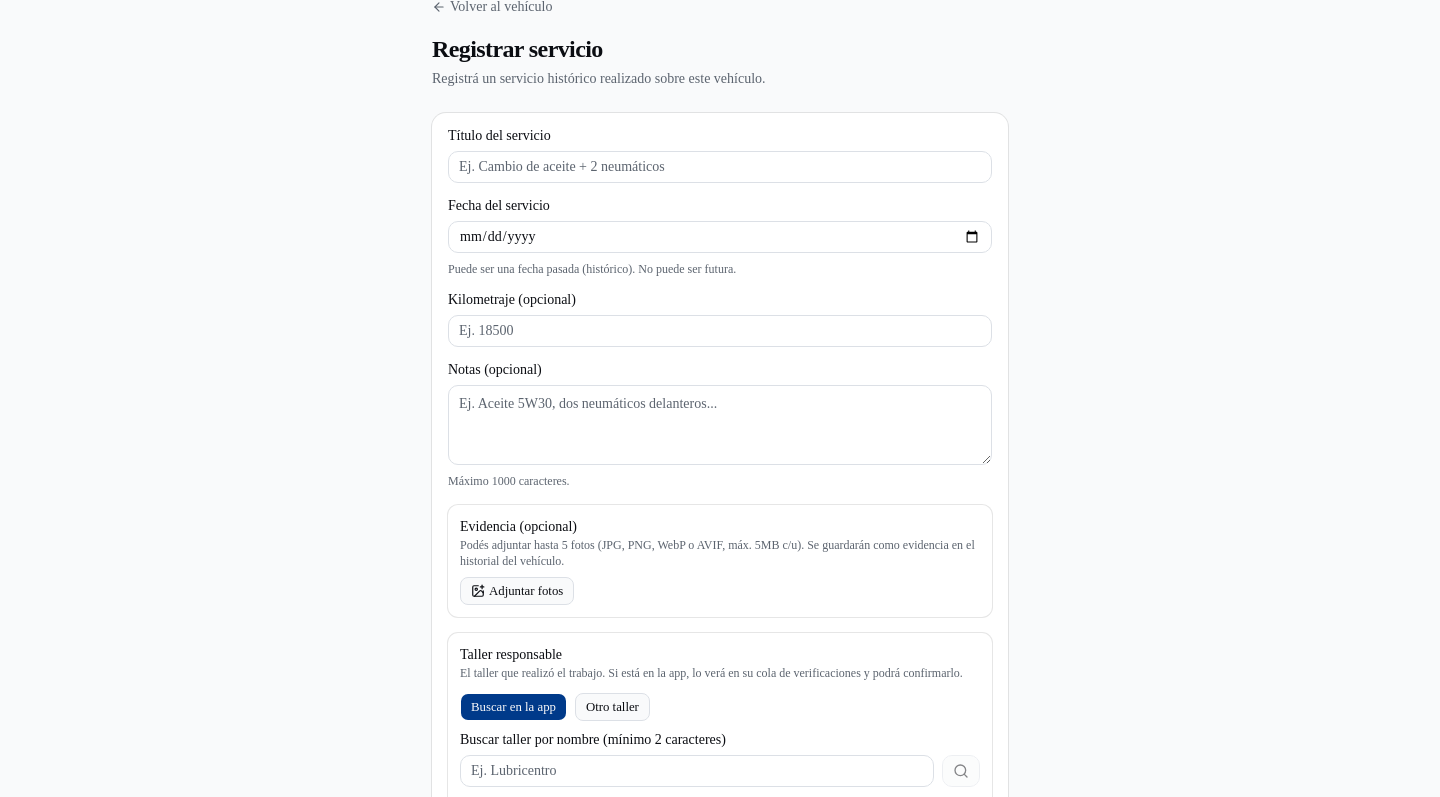
Scenario: Registrar servicio page (iteración 2-2) › happy path con taller de la app: envía workshopId (y nunca workshopName)
In the field labelled "Título del servicio": (720, 167) [448,151,992,183], type "Cambio de aceite + 2 neumáticos"
In the date field labelled "Fecha del servicio": (720, 237) [448,221,992,253], type "2026-06-15"
In the field labelled "Kilometraje (opcional)": (720, 331) [448,315,992,347], type "18500"
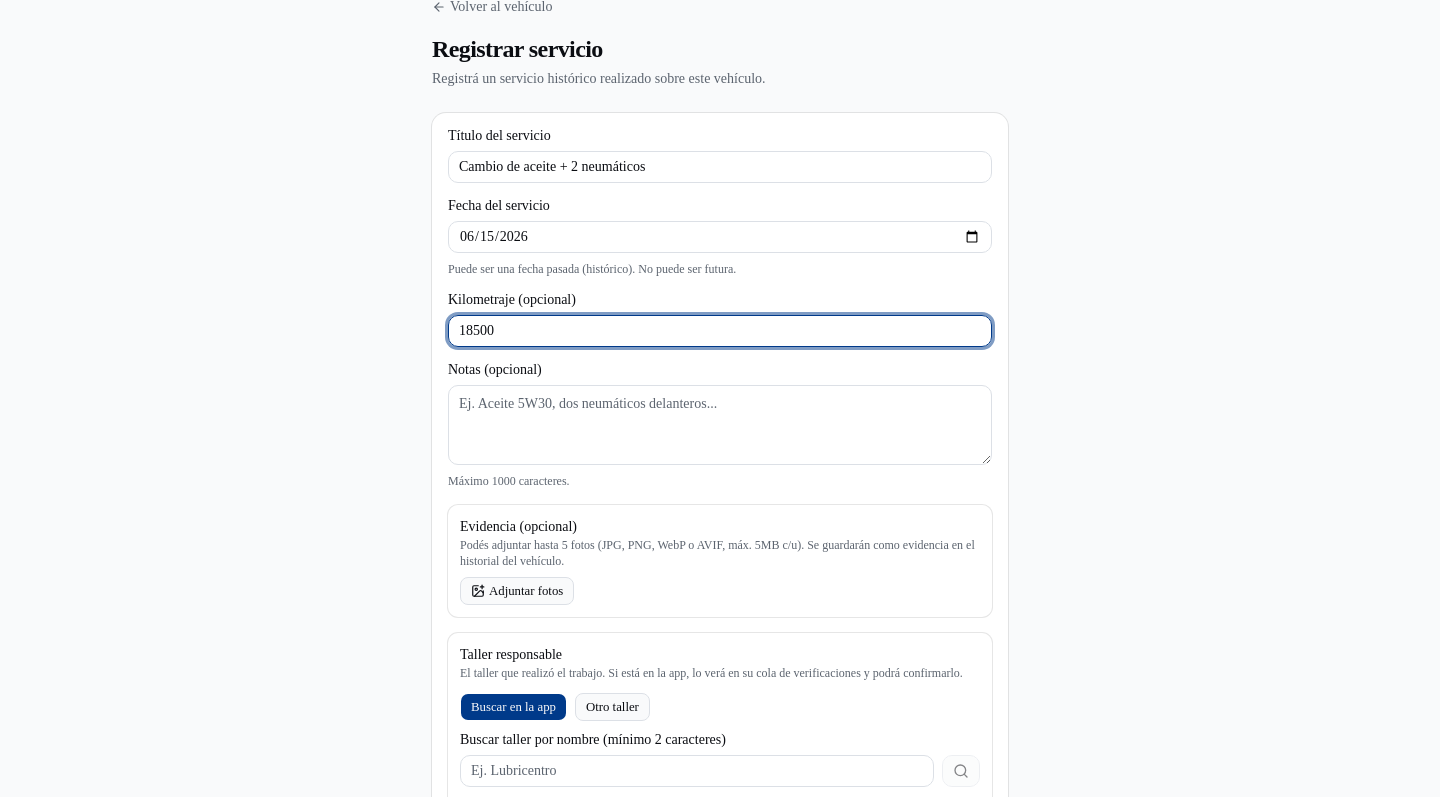
In the text box labelled "Notas (opcional)": (720, 425) [448,385,992,465], type "Aceite 5W30"
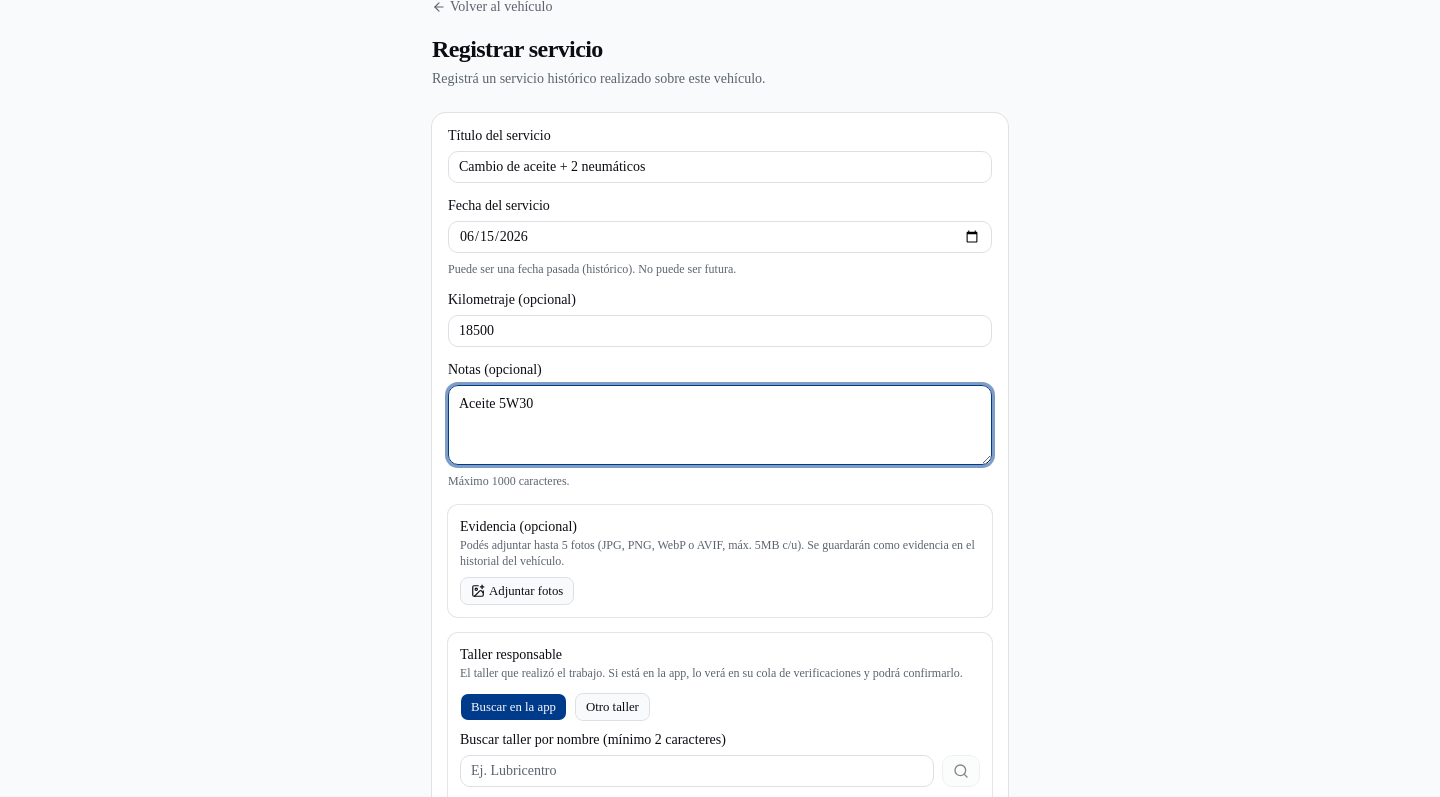
In the field labelled "Buscar taller por nombre (mínimo 2 caracteres)": (697, 771) [460,755,934,787], type "Lubricentro"
(page scrolled)
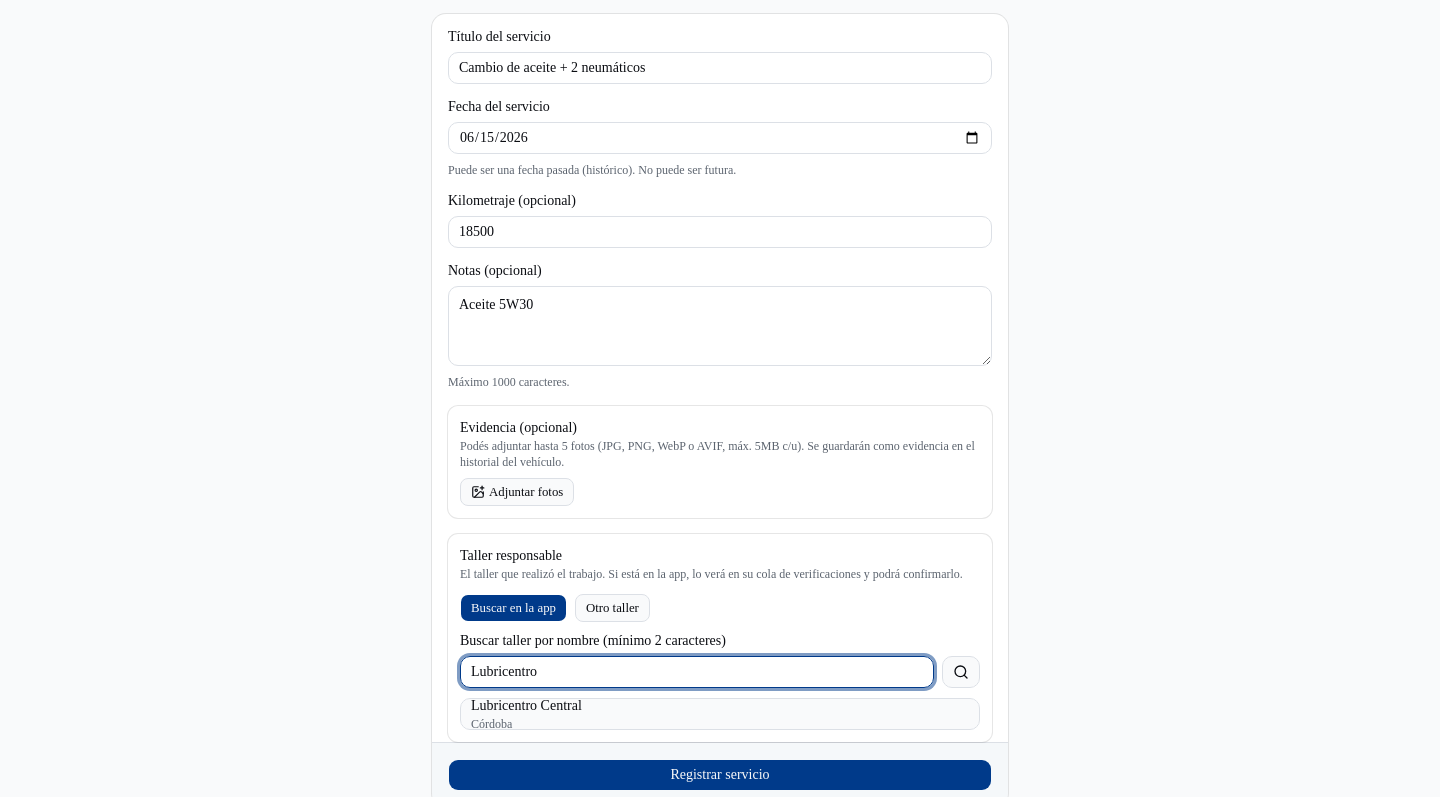
Result: the text "Córdoba" is shown at [471,717,512,731]
Click the button "Lubricentro Central Córdoba": click(526, 706) [460,698,980,730]
(page scrolled)
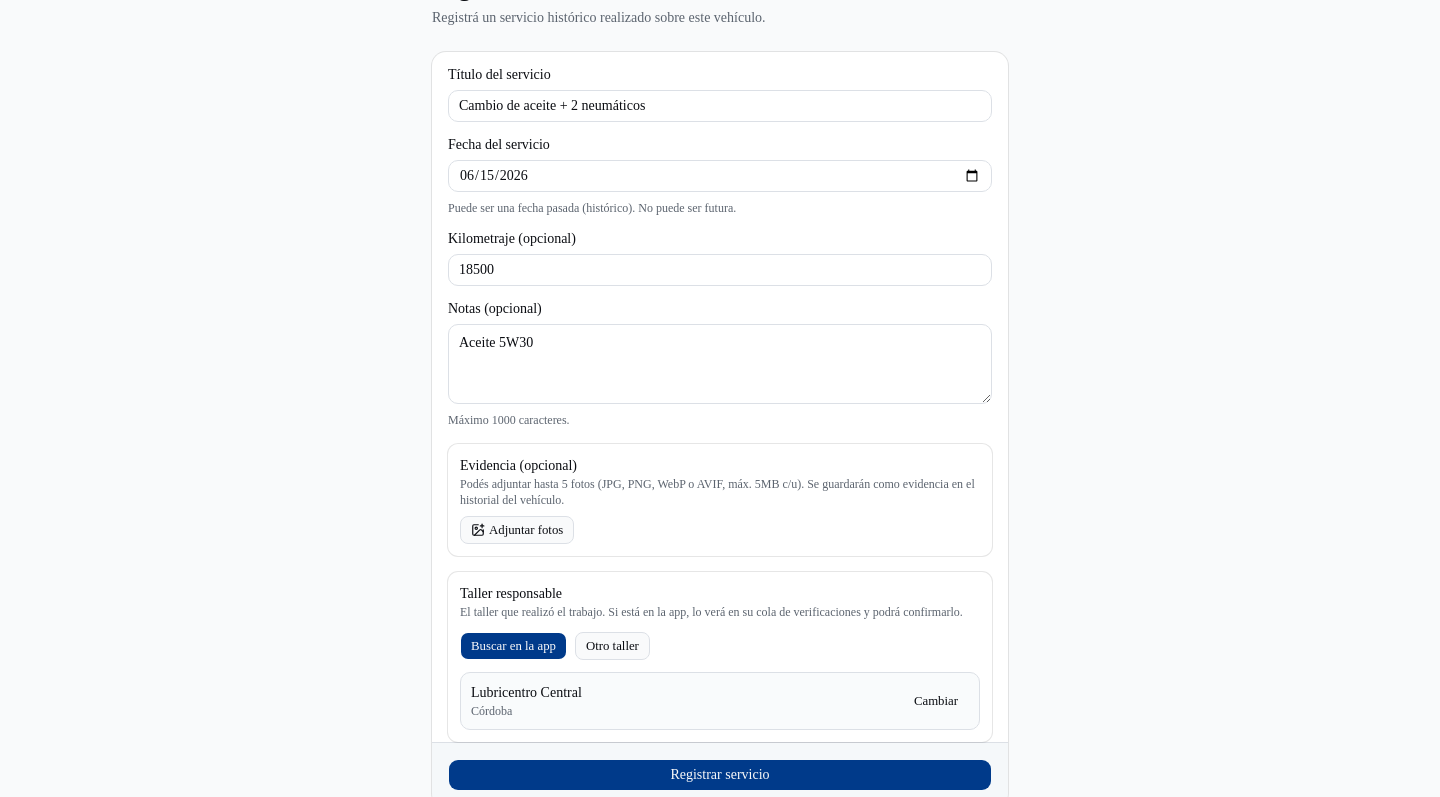
Click the button "Registrar servicio": click(720, 775) [448,759,992,791]
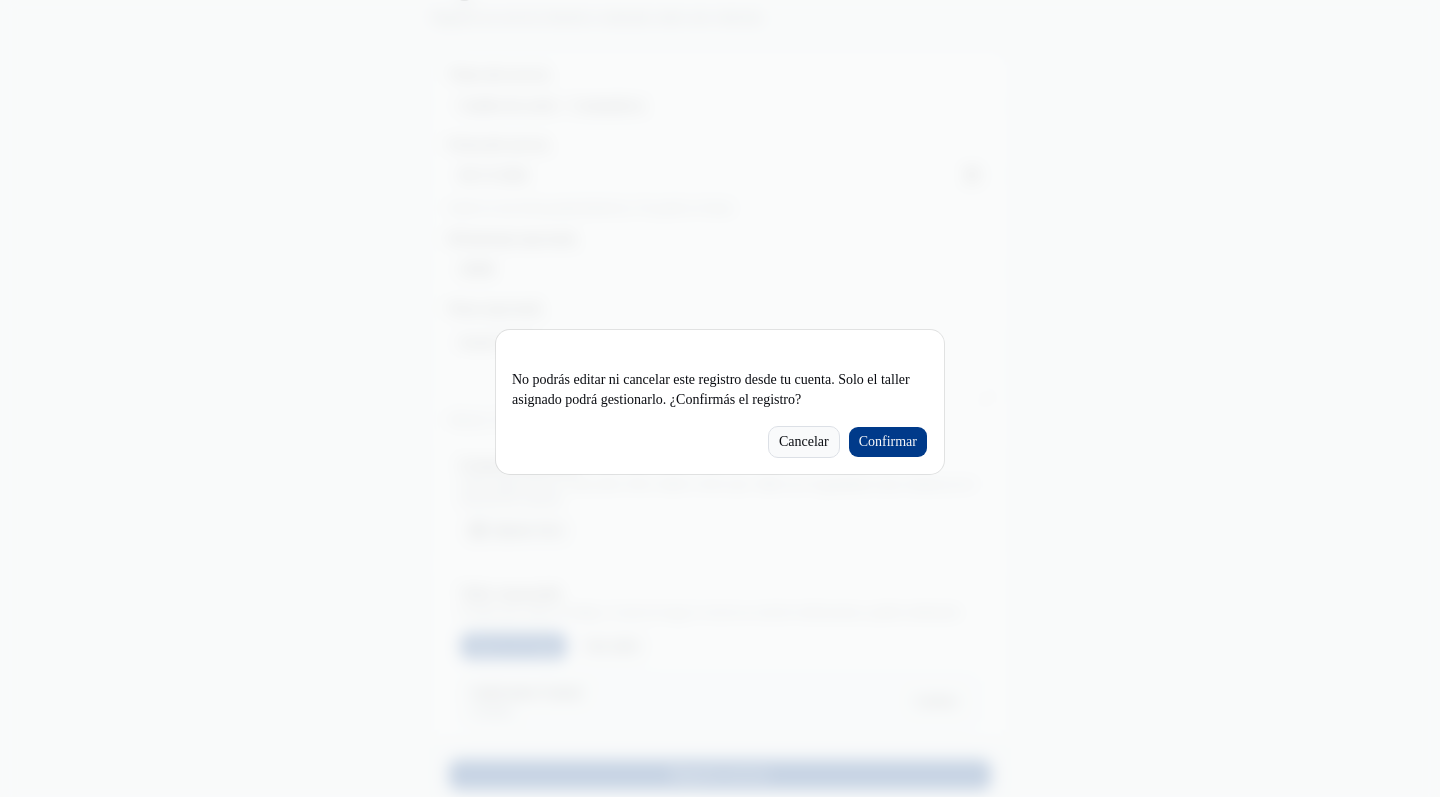
Result: the dialog is shown at [496,330,944,474]
Click the button "Confirmar": click(888, 442) [848,426,928,458]
(page scrolled)
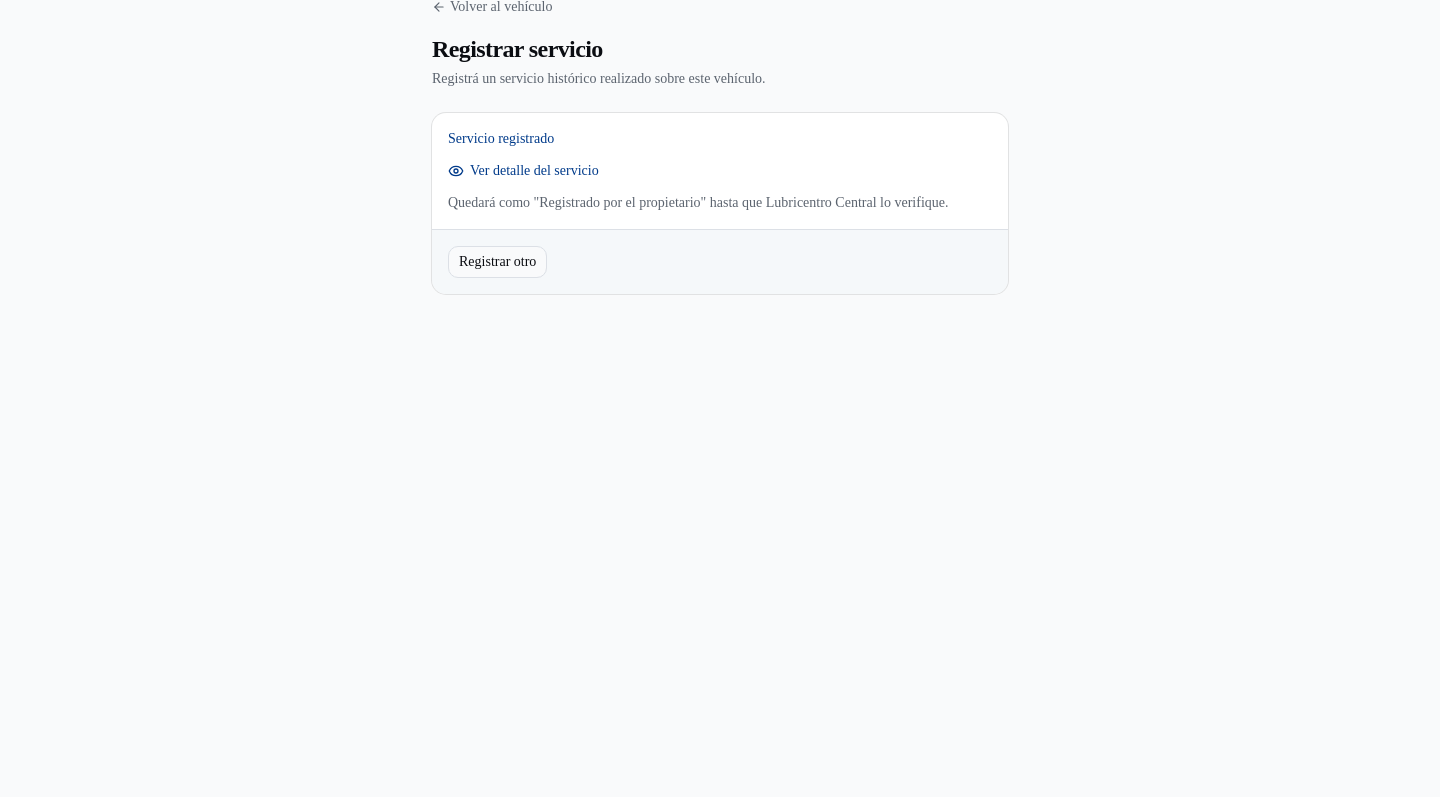
Result: the text "quedará como \"Registrado por el propietario\" hasta que Lubricentro Central lo verifique" is shown at [448,193,992,213]
